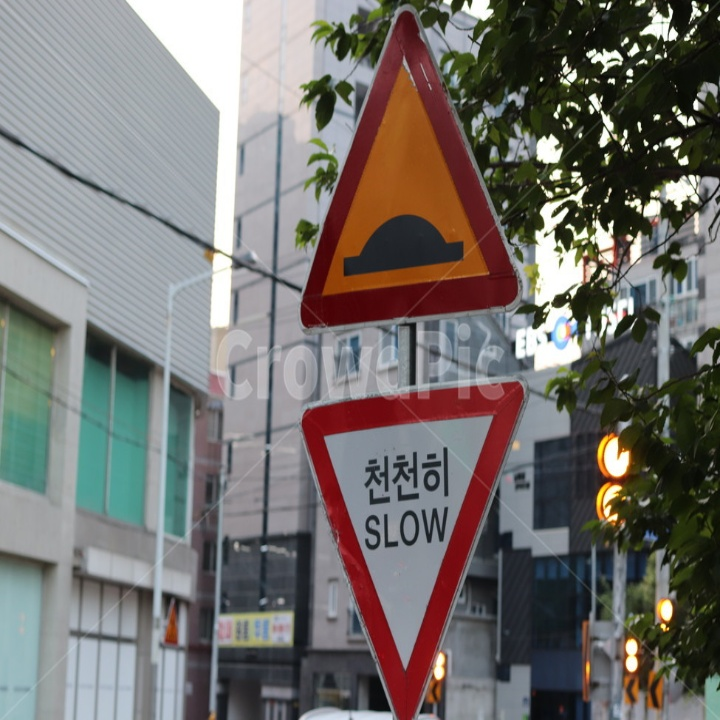bump: (340, 210, 464, 283)
